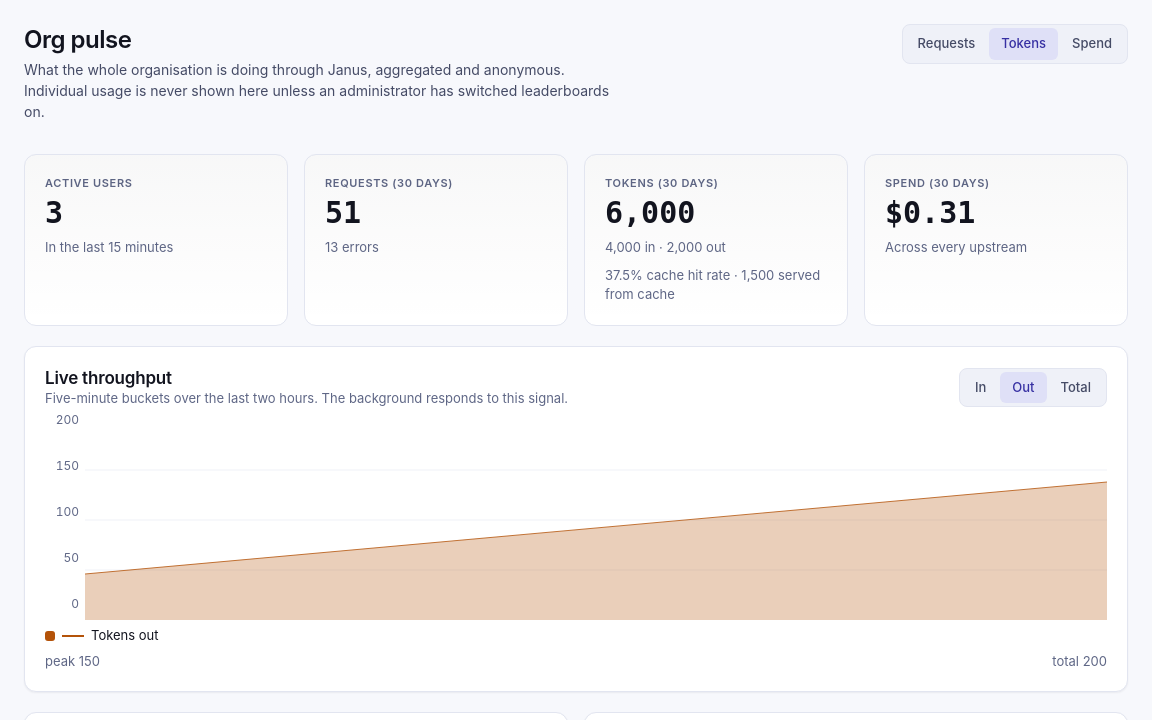
Test: live throughput — token direction picker › returns to the combined stacked view when Total is selected again
The image size is (1152, 720).
Expected: the heading "Live throughput" is shown, [45, 368, 172, 388]
Click the button "Total" at (1076, 387), box [1048, 372, 1103, 403]
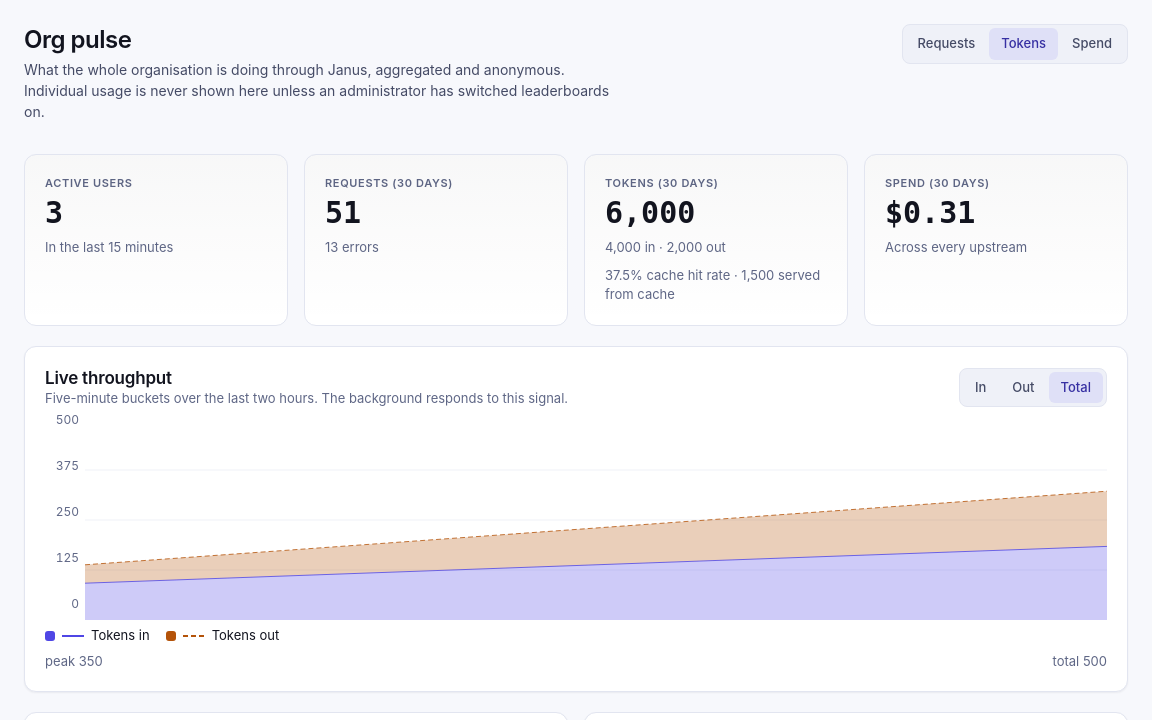
Expected: the text "total 500" is shown, [1052, 652, 1107, 671]
